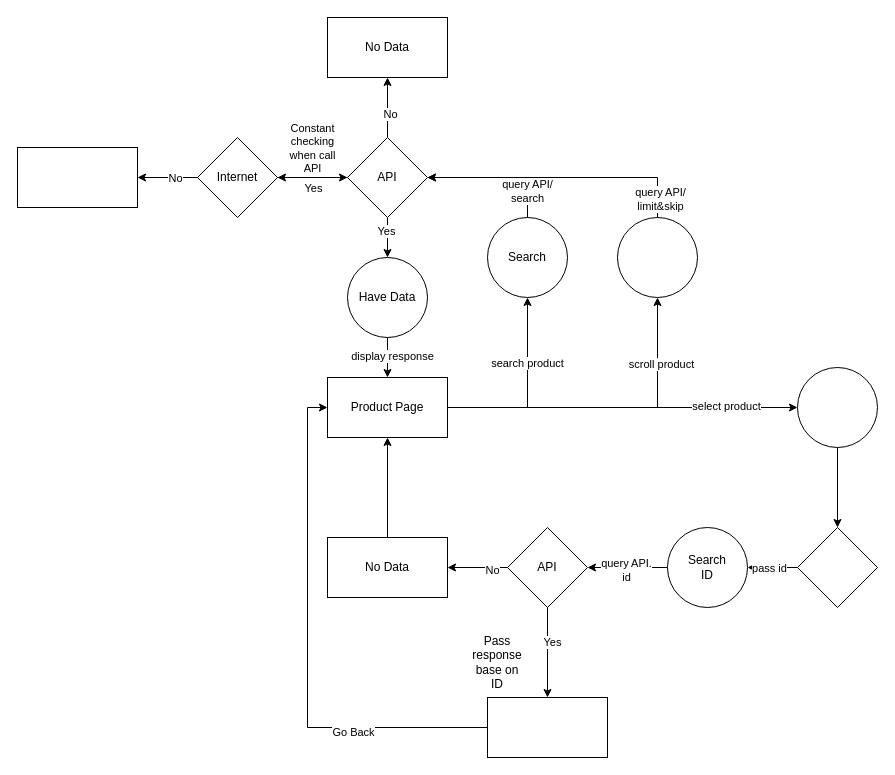
Some shapes in this 895 by 775 pixel diagram are drawn without their labels. The centre of each missing label's shape, as x and y in pixels:
"ID" goes at [837,567].
"No Internet" goes at [77,177].
"Product" goes at [837,407].
"Product Detail Page" goes at [547,727].
"Scroll" goes at [657,257].
